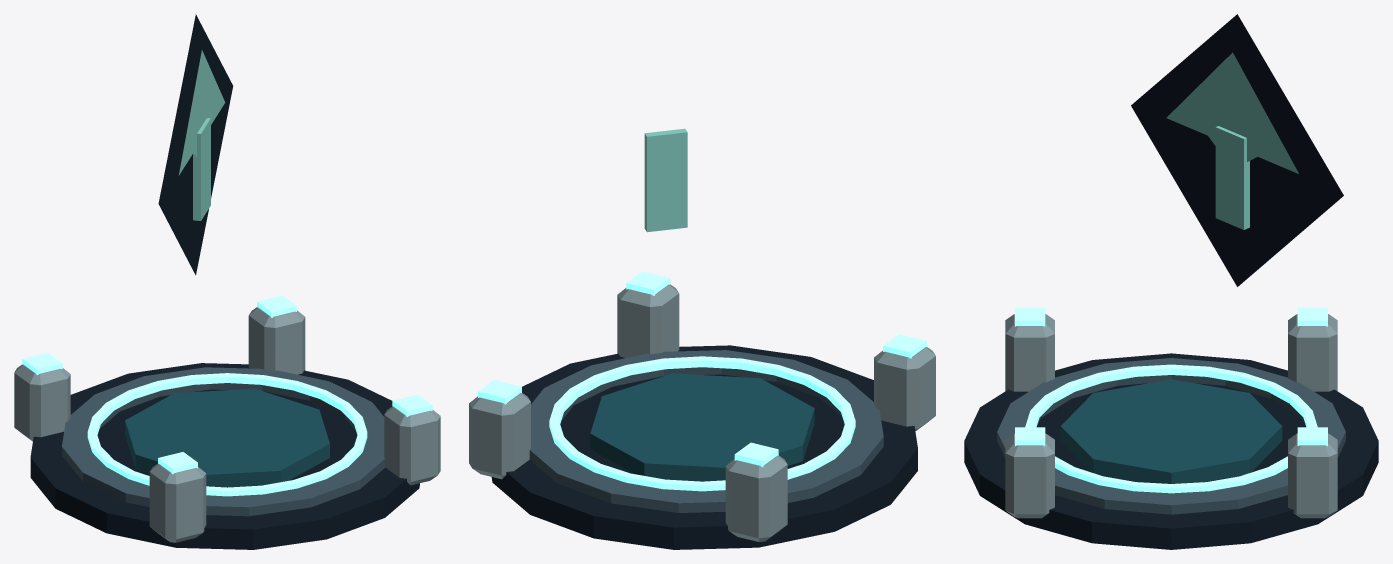
File: extraction-pad.gltf
3 views of the same model, side by side, from view 1: azimuth 30°, elevation 25°; view 2: azimuth 150°, elevation 25°; view 3: azimuth 270°, elevation 25° (orthographic). The views are drawn at different scales.
Visible parts, largest first — view 1: pad, uplink-marker; view 2: pad, uplink-marker; view 3: pad, uplink-marker.
Boxes of the visible parts, x1,y1,x2,y2 form: pad: [14, 295, 440, 549]; uplink-marker: [158, 14, 233, 275]; pad: [469, 271, 935, 549]; uplink-marker: [644, 128, 687, 232]; pad: [964, 307, 1378, 549]; uplink-marker: [1131, 14, 1343, 286].
Size of what is drawn, in the model's own units: 0.88 by 1.05 by 0.88.
